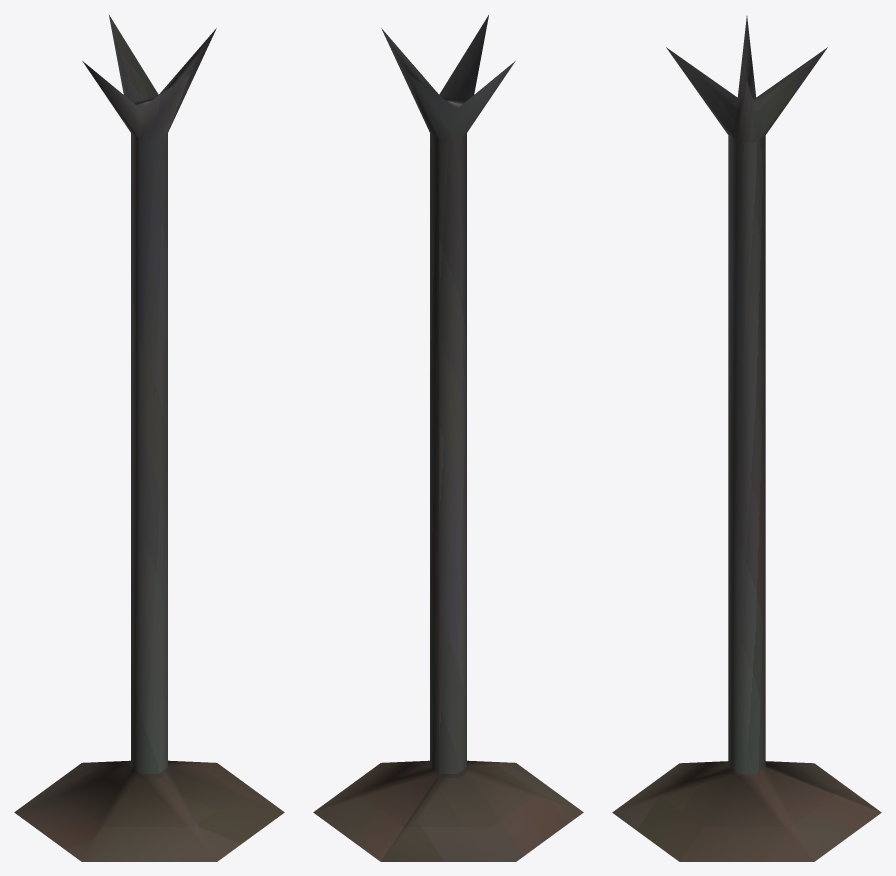
The model's file is standing_torch.glb.
3 views of the same model, side by side, from view 1: azimuth 30°, elevation 25°; view 2: azimuth 150°, elevation 25°; view 3: azimuth 270°, elevation 25° (orthographic).
Parts seen in each view (by area): view 1: standingtorch; view 2: standingtorch; view 3: standingtorch.
Part boxes in pixels (box(x1,y1,x2,y2)): standingtorch: box(14, 15, 284, 861); standingtorch: box(313, 15, 583, 861); standingtorch: box(612, 16, 881, 861).
Bounding box in the file's own units: 1.48 × 5.36 × 1.71.
Materials: 1 (1 with a texture image).
